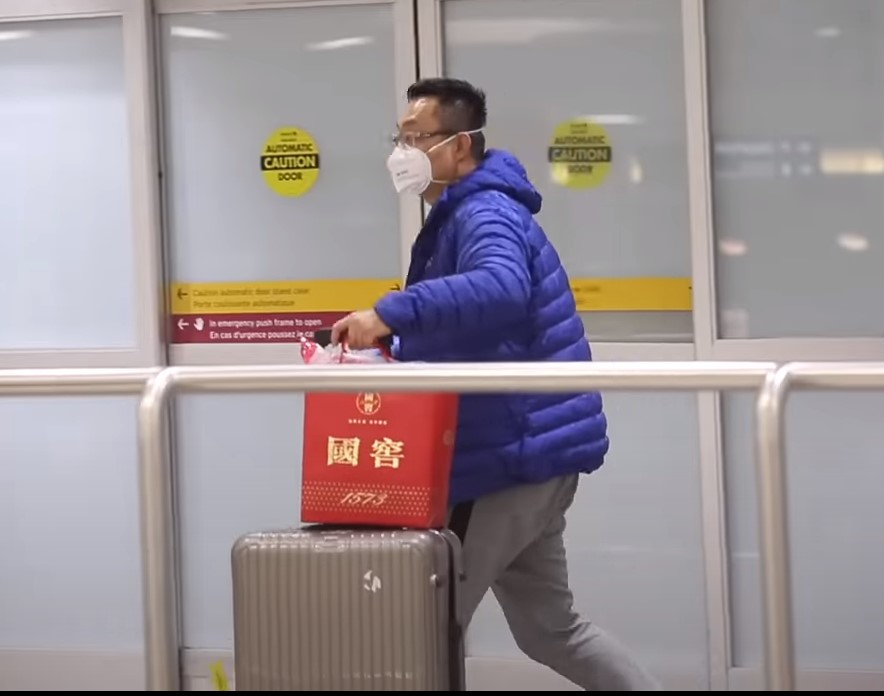face_with_mask: (386, 79, 489, 203)
